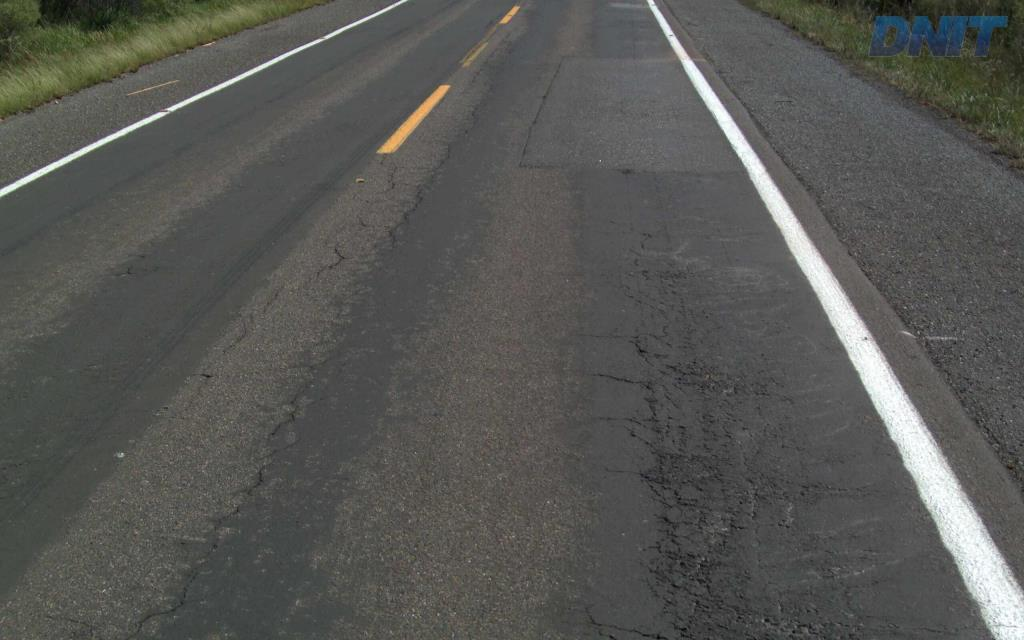crack: (649, 547, 780, 627), (130, 560, 208, 635), (665, 356, 728, 394), (639, 452, 685, 490), (702, 618, 778, 639), (784, 617, 836, 639)
